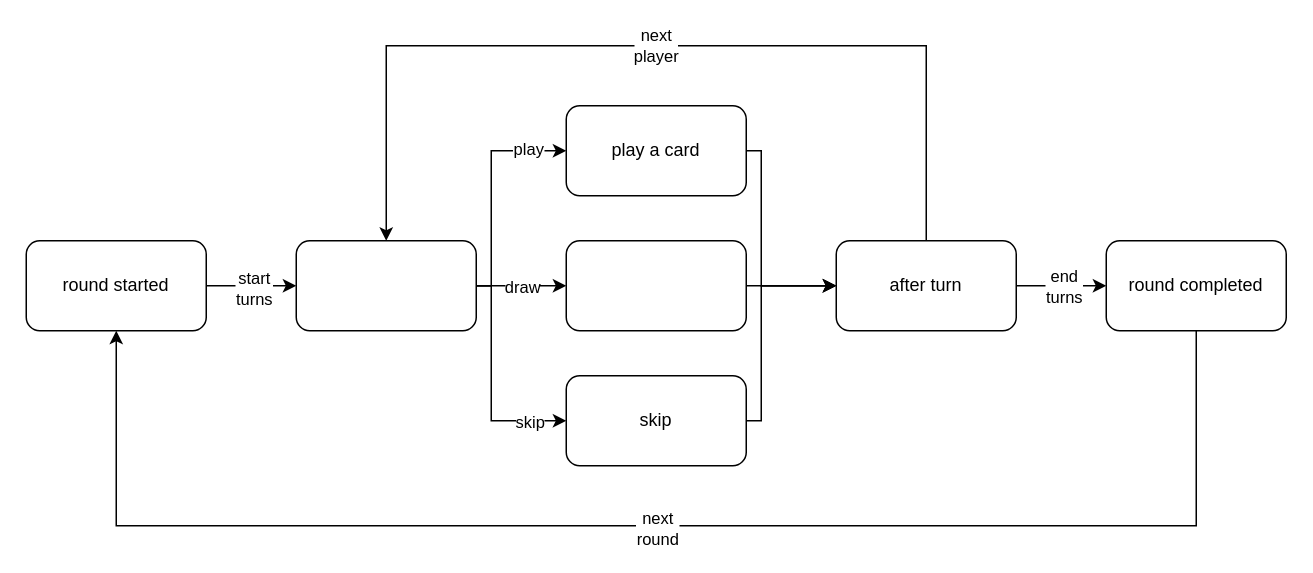
Image size: 1313x573. Some labels were removed from this diagram. The box of each missing label's shape, as (x1, y1, x2, y2) in pixels:
before turn: (295, 239, 476, 331)
draw a card: (565, 239, 746, 331)
